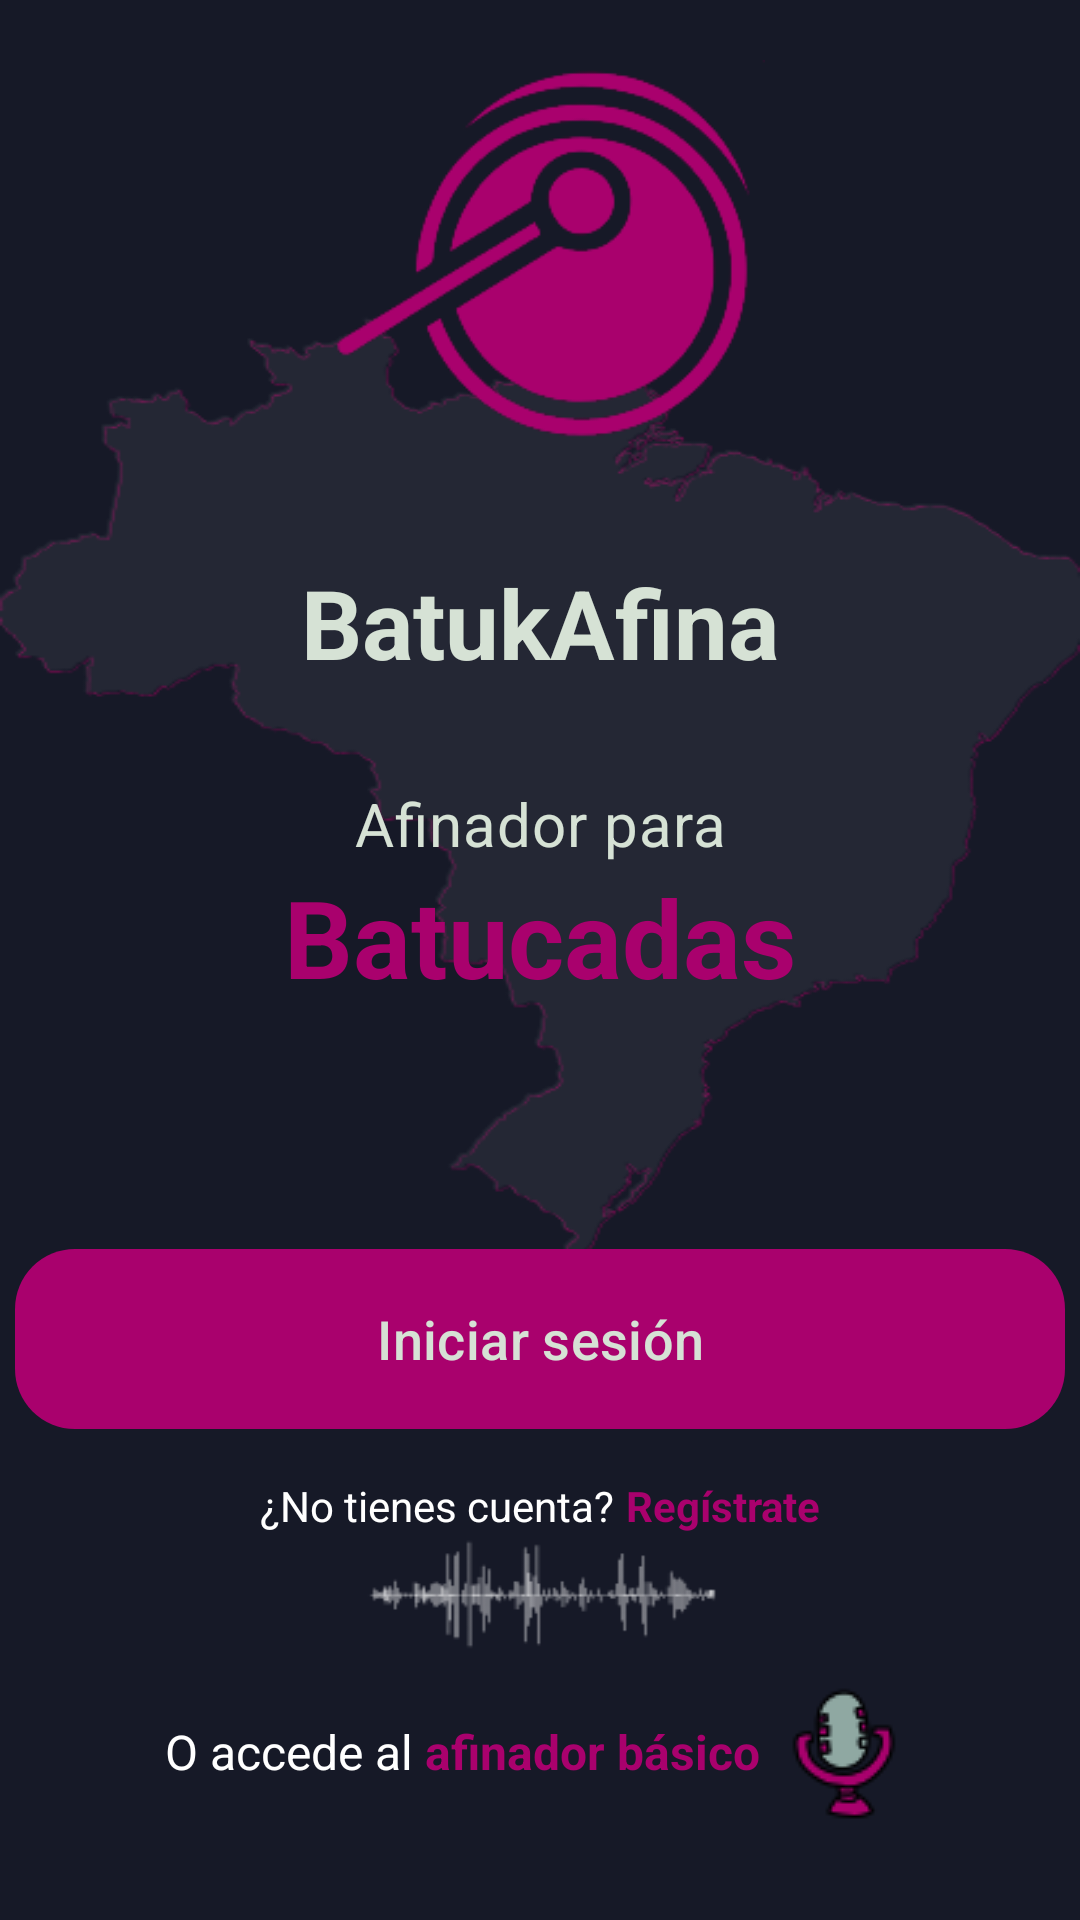

Named icons in this screenshot (1080×1920) and their bounding boxes, (x1, y1, x2, y2):
microphone: (794, 1692, 894, 1818)
